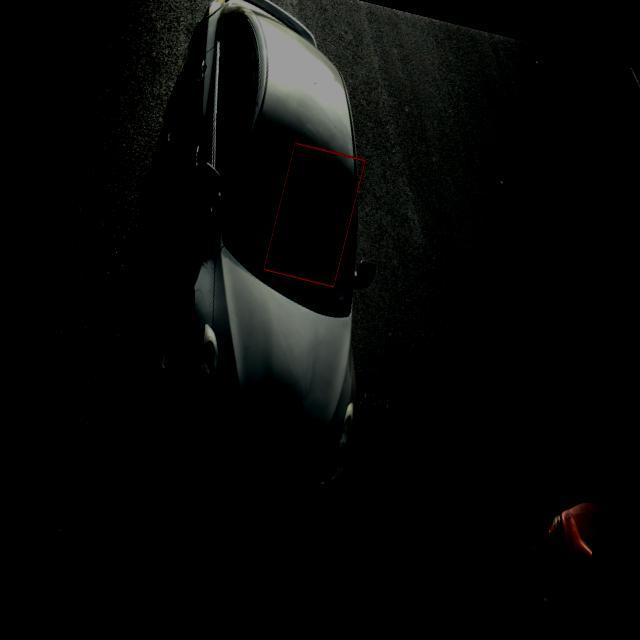windshield: (221, 107, 363, 326)
